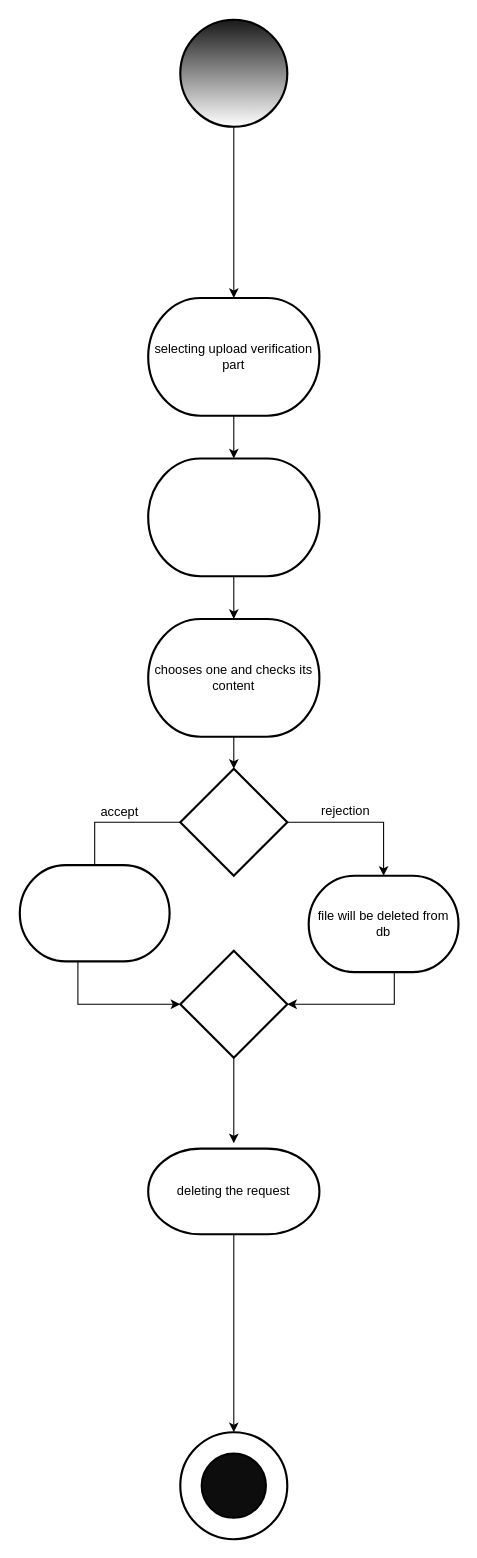
This 477x1558 diagram has some shape labels left out. The box of each missing label's shape, as (x1, y1, x2, y2) in pixels:
browses request which are sorted by date added: (147, 457, 320, 577)
file will becomes accessible for student: (18, 863, 170, 962)
